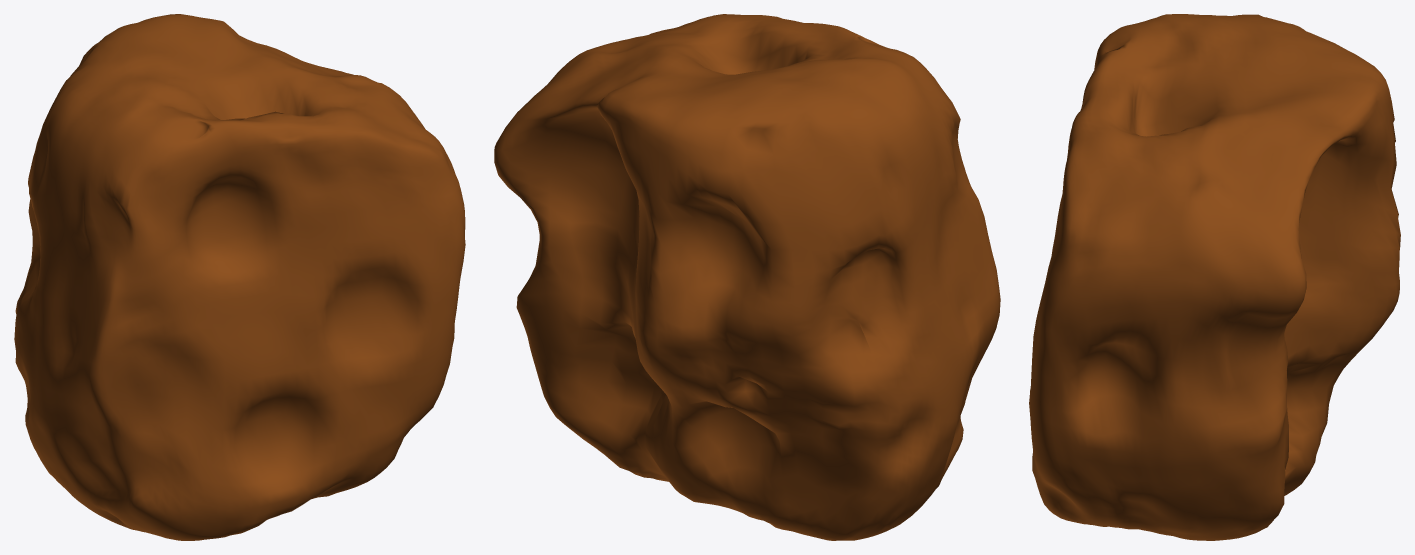
Rendered from asteroid_grande.fbx.
3 renders of one model, left to right at view 1: azimuth 30°, elevation 25°; view 2: azimuth 150°, elevation 25°; view 3: azimuth 270°, elevation 25°, orthographic. The views are drawn at different scales.
Parts seen in each view (by area): view 1: asterioid; view 2: asterioid; view 3: asterioid.
Boxes of the visible parts, x1=… form: asterioid: x1=14, y1=14, x2=465, y2=540; asterioid: x1=494, y1=14, x2=1000, y2=540; asterioid: x1=1029, y1=14, x2=1400, y2=540.
Size of the model in its own units: 701 by 742 by 559.
